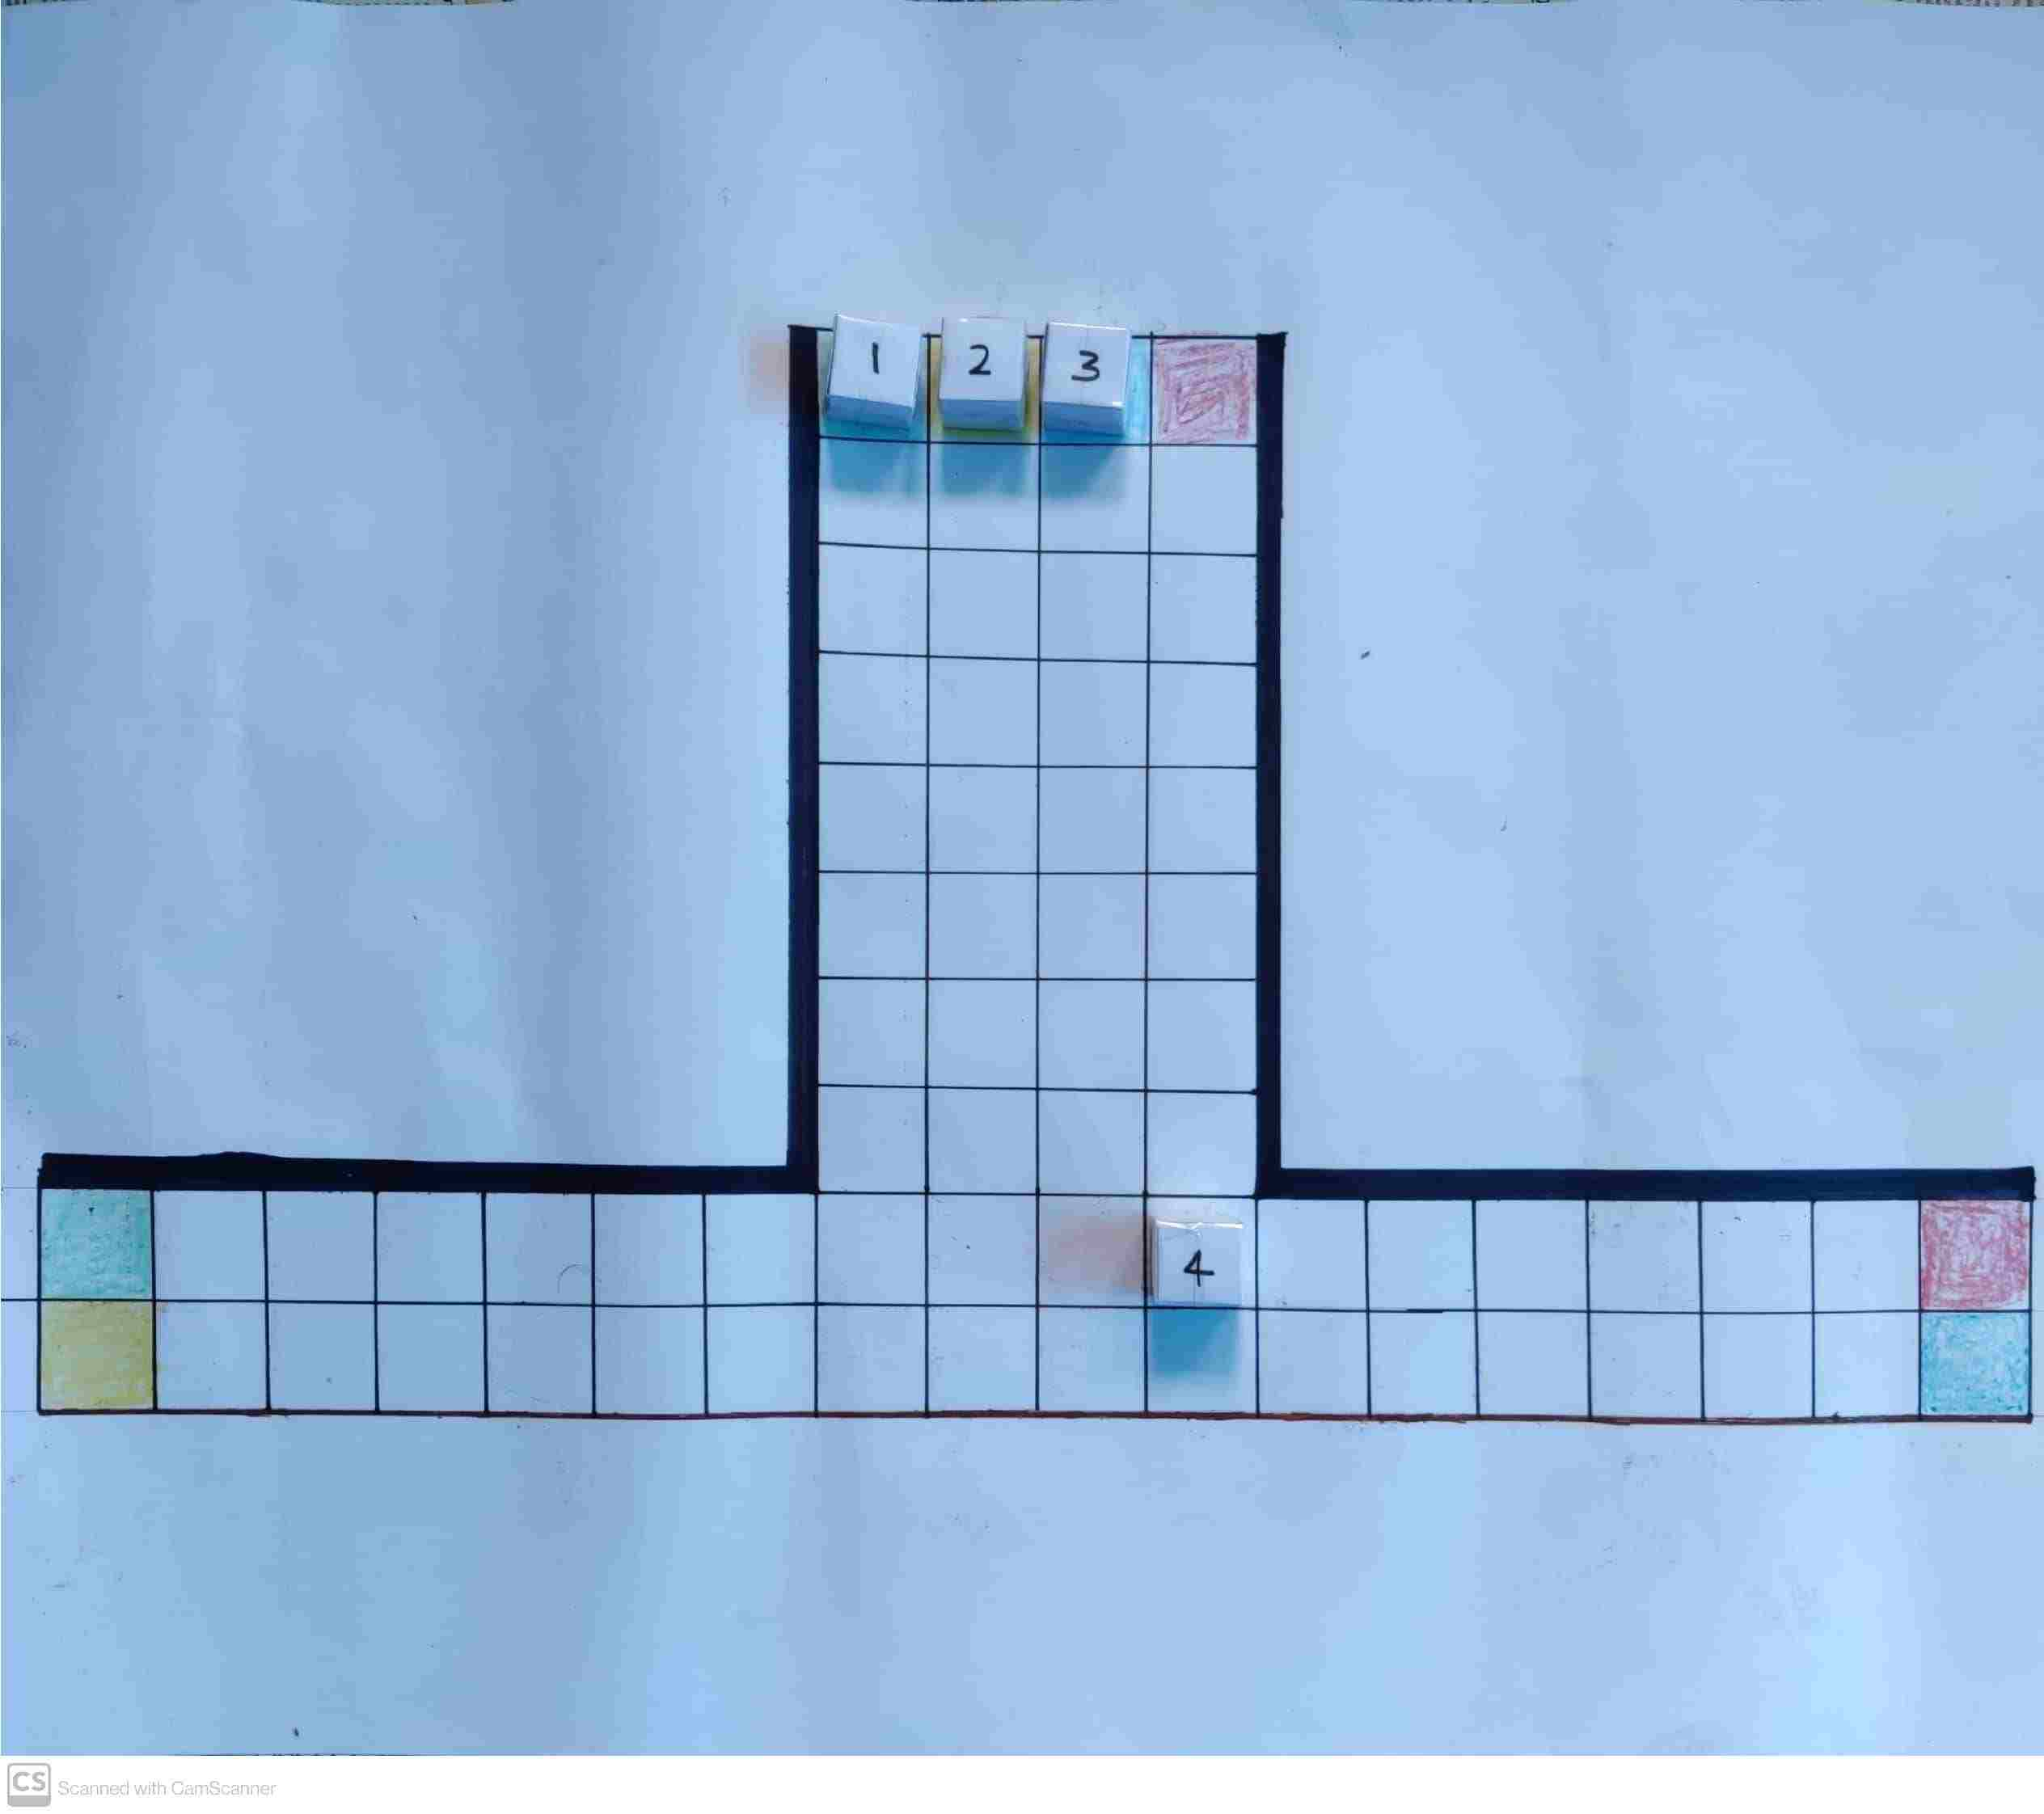arena: (39, 327, 2025, 1425)
bot: (1040, 320, 1130, 408), (832, 320, 920, 401), (942, 317, 1023, 404), (1156, 1224, 1240, 1304)
